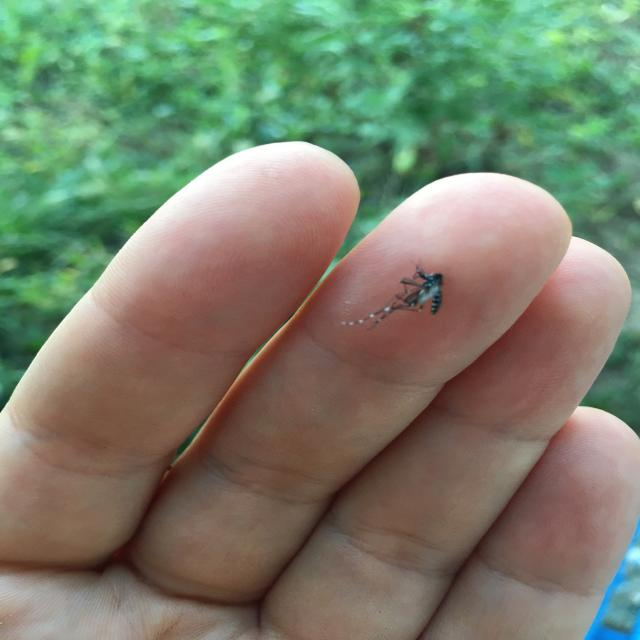albopictus: (347, 253, 455, 332)
